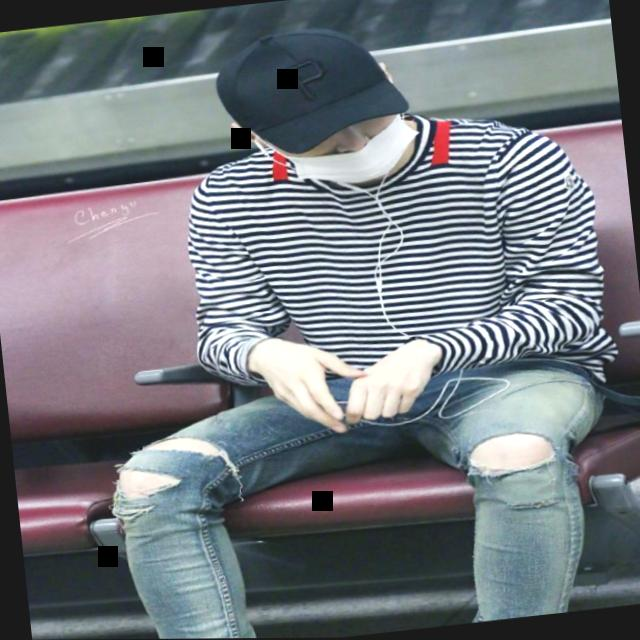Mask: (202, 15, 435, 202)
